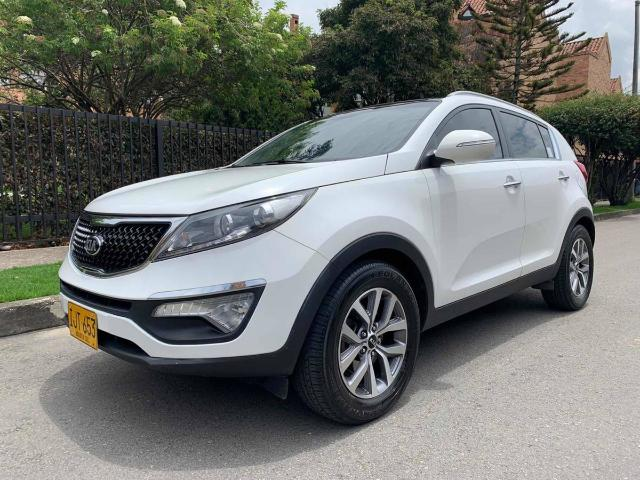Camioneta: (54, 89, 602, 416)
